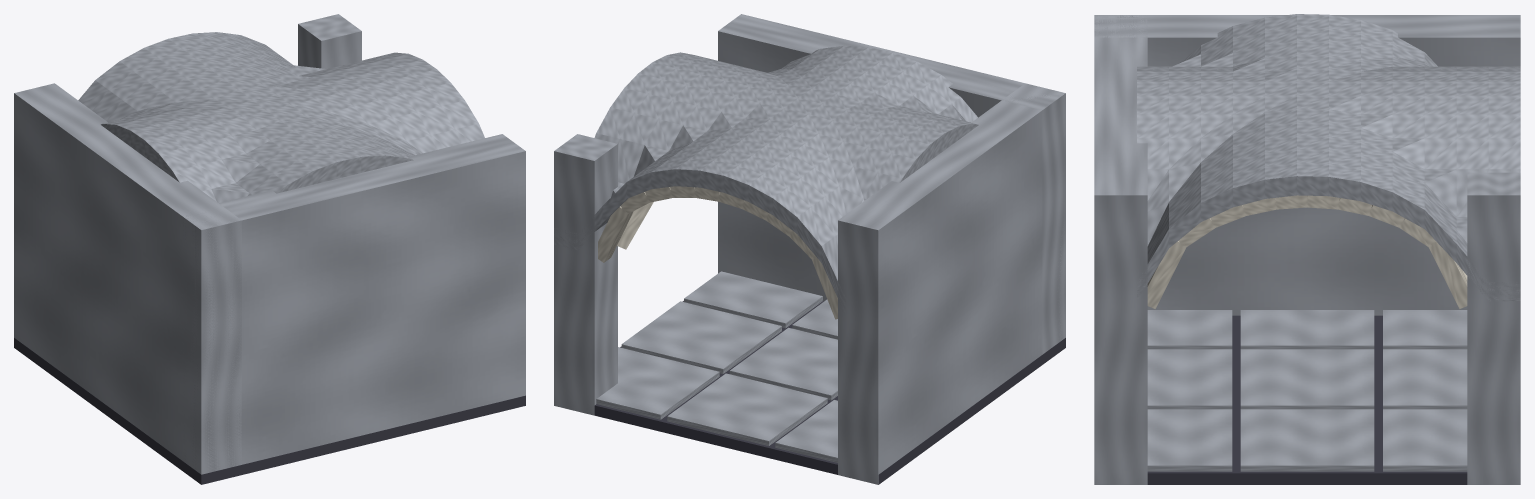
Rendered from vampire-crypt-and-gothic-cathedral-crypt-corridor-corn-dd3877ea__22973.glb.
3 renders of one model, left to right at view 1: azimuth 30°, elevation 25°; view 2: azimuth 150°, elevation 25°; view 3: azimuth 270°, elevation 25°, orthographic. The views are drawn at different scales.
Parts seen in each view (by area): view 1: crypt-corridor-corner; view 2: crypt-corridor-corner; view 3: crypt-corridor-corner.
Boxes of the visible parts, x1=… form: crypt-corridor-corner: x1=14, y1=14, x2=525, y2=484; crypt-corridor-corner: x1=554, y1=14, x2=1065, y2=484; crypt-corridor-corner: x1=1094, y1=14, x2=1520, y2=484.
Size of the model in its own units: 4 by 3.2 by 4.
Materials: 4 (2 with a texture image).
